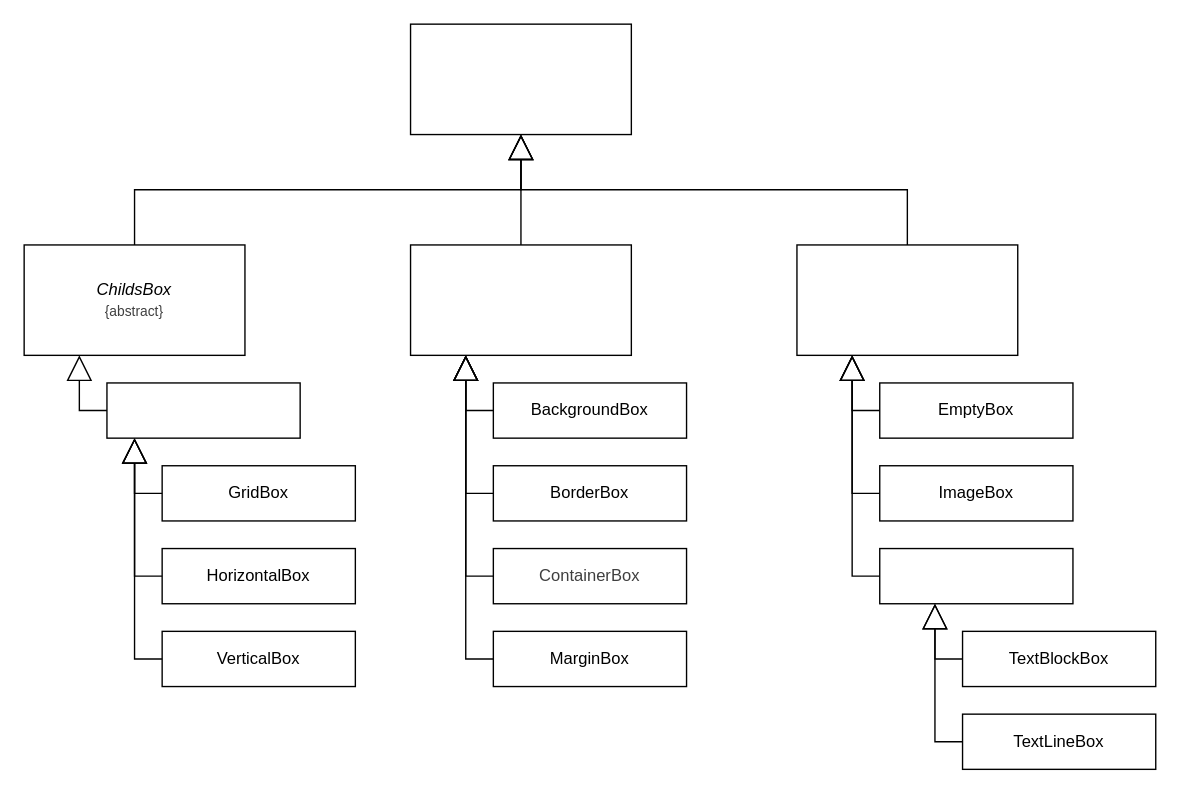
Image size: 1180x794. Some labels were removed from this diagram. Here are the shapes that lost their labels. From the top down, the box of each, then its label:
(409, 23, 631, 135): Box {abstract}
(409, 244, 631, 355): ChildBox {abstract}
(796, 244, 1018, 355): LeafBox {abstract}
(106, 382, 300, 438): PaddingBox {abstract}
(878, 547, 1073, 604): TextBox {abstract}
